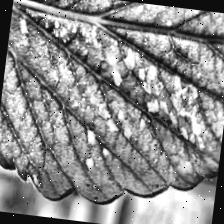Angular Leafspot: (0, 0, 224, 190)
